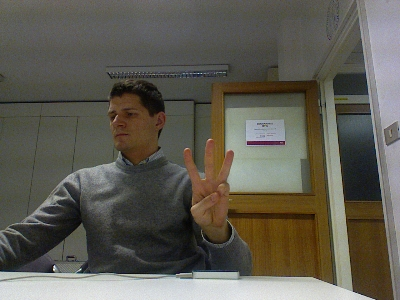三分: (182, 138, 235, 229)
